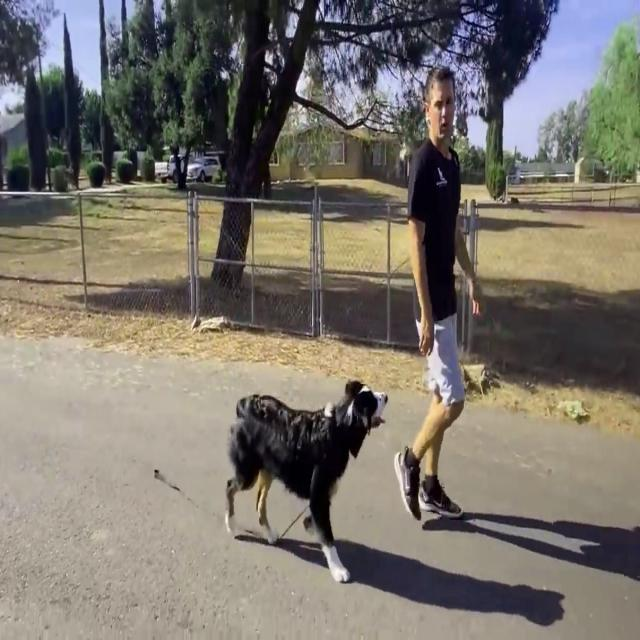Unleashed_Dog: (225, 314, 456, 583)
